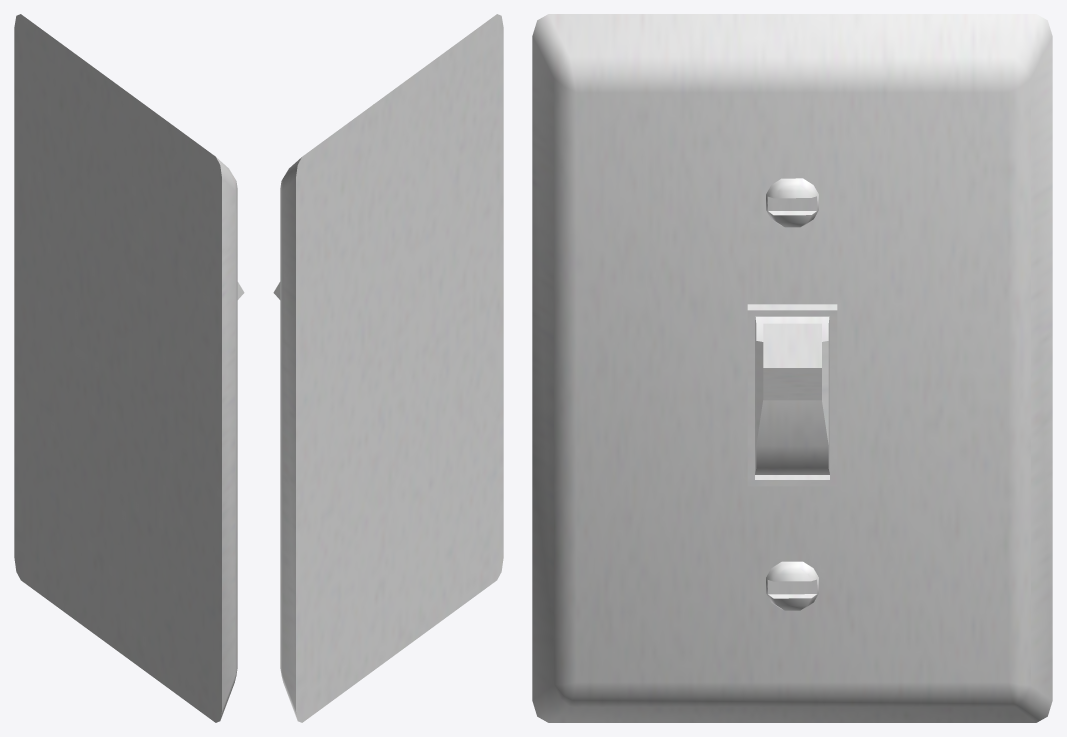
The model's file is SwitchWhite.fbx.
3 views of the same model, side by side, from view 1: azimuth 30°, elevation 25°; view 2: azimuth 150°, elevation 25°; view 3: azimuth 270°, elevation 25° (orthographic). The views are drawn at different scales.
Visible parts, largest first — view 1: SwitchWhite; view 2: SwitchWhite; view 3: SwitchWhite.
Boxes of the visible parts, x1=… form: SwitchWhite: x1=14, y1=14, x2=244, y2=722; SwitchWhite: x1=273, y1=14, x2=503, y2=722; SwitchWhite: x1=532, y1=14, x2=1052, y2=722.
Bounding box in the file's own units: 3.37 × 15.93 × 10.59.
